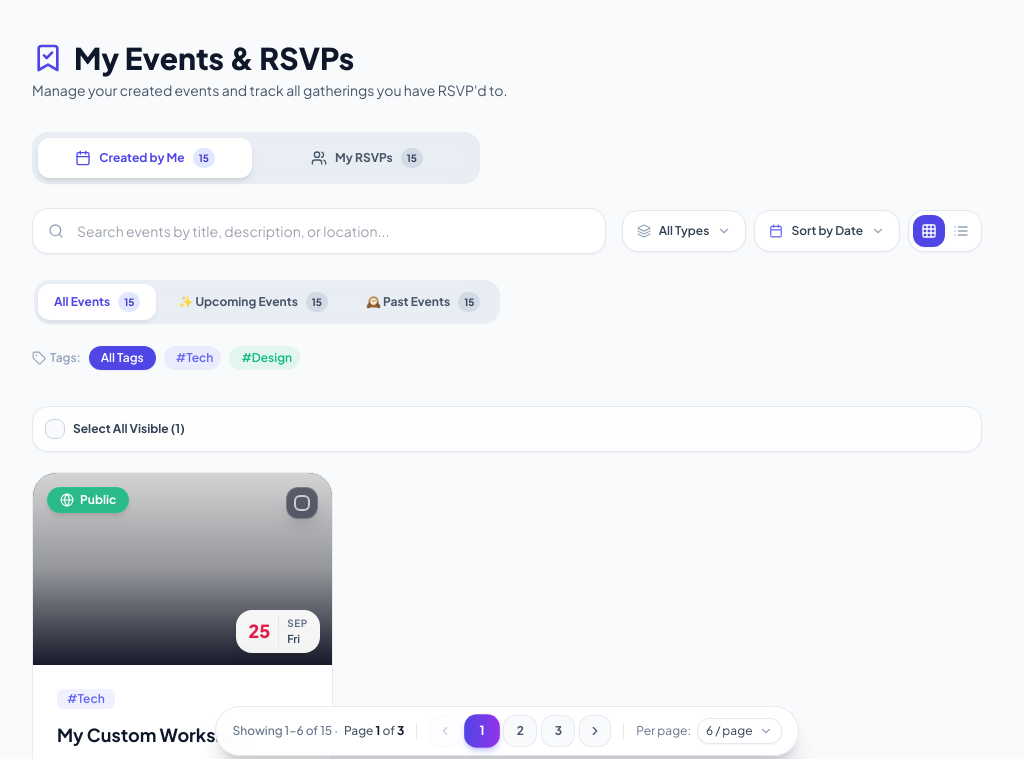
MyEventsPage Component › updates timeframe counts dynamically according to the selected event tag filter
Note: Select "#Tech" tag chip
Click the button "#Tech" at [193, 358], box [164,346,221,370]
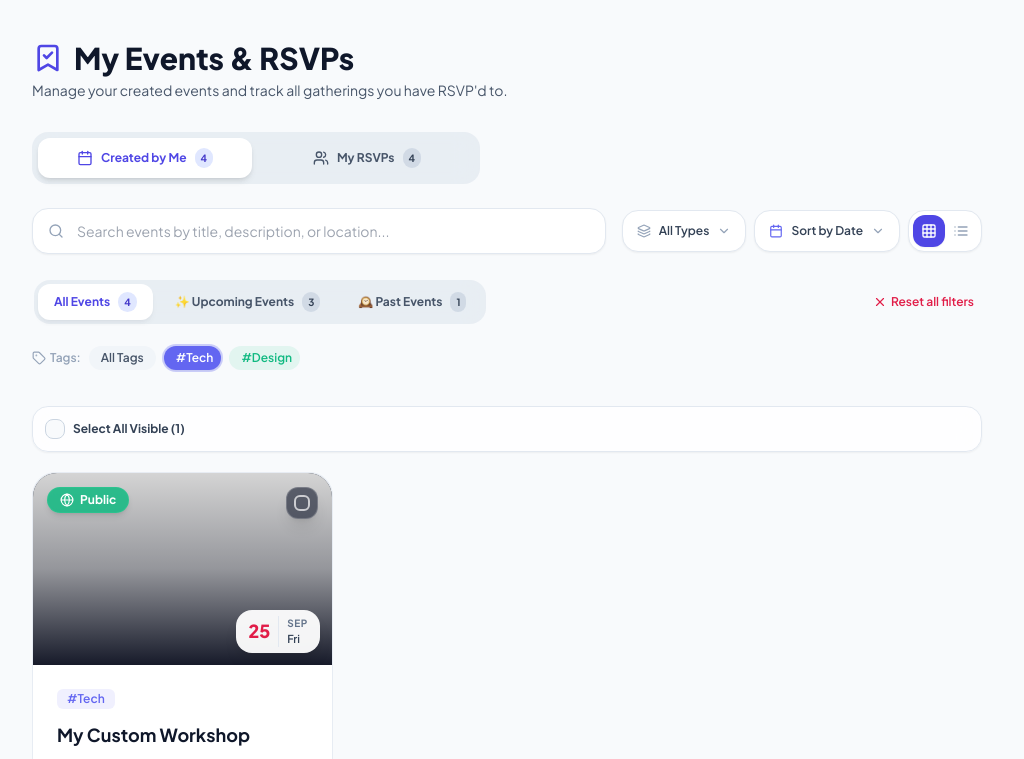
Check: the button "🕰️ Past Events 1" is shown, box [342,284,482,320]
Check: the button "All Events 4" is shown, box [38,284,153,320]
Check: the button "✨ Upcoming Events 3" is shown, box [159,284,336,320]
